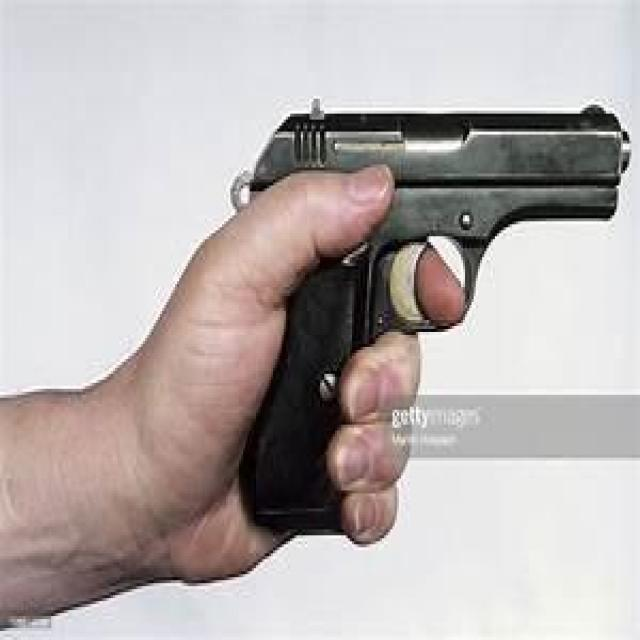Handgun: (206, 84, 634, 586)
